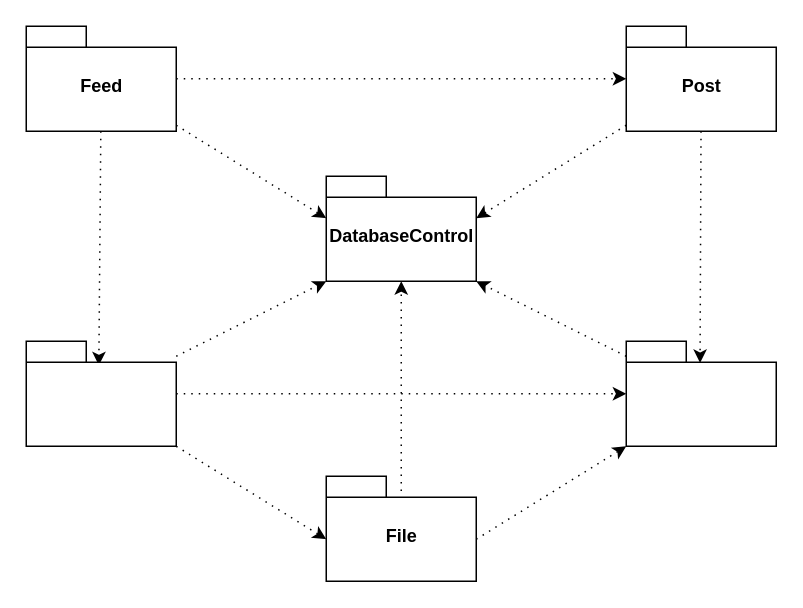
This 803x608 diagram has some shape labels left out. The shapes that lost their labels are listed below. From the top down, each one's centre as x and y in pixels, then its label:
point 100,393: Gallery
point 700,393: User
